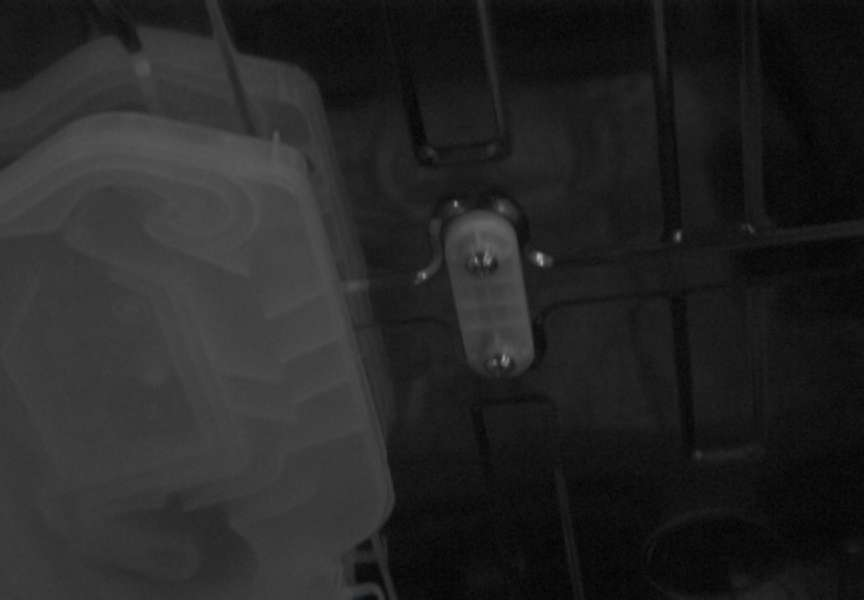screw: (466, 250, 498, 278), (484, 352, 516, 378)
